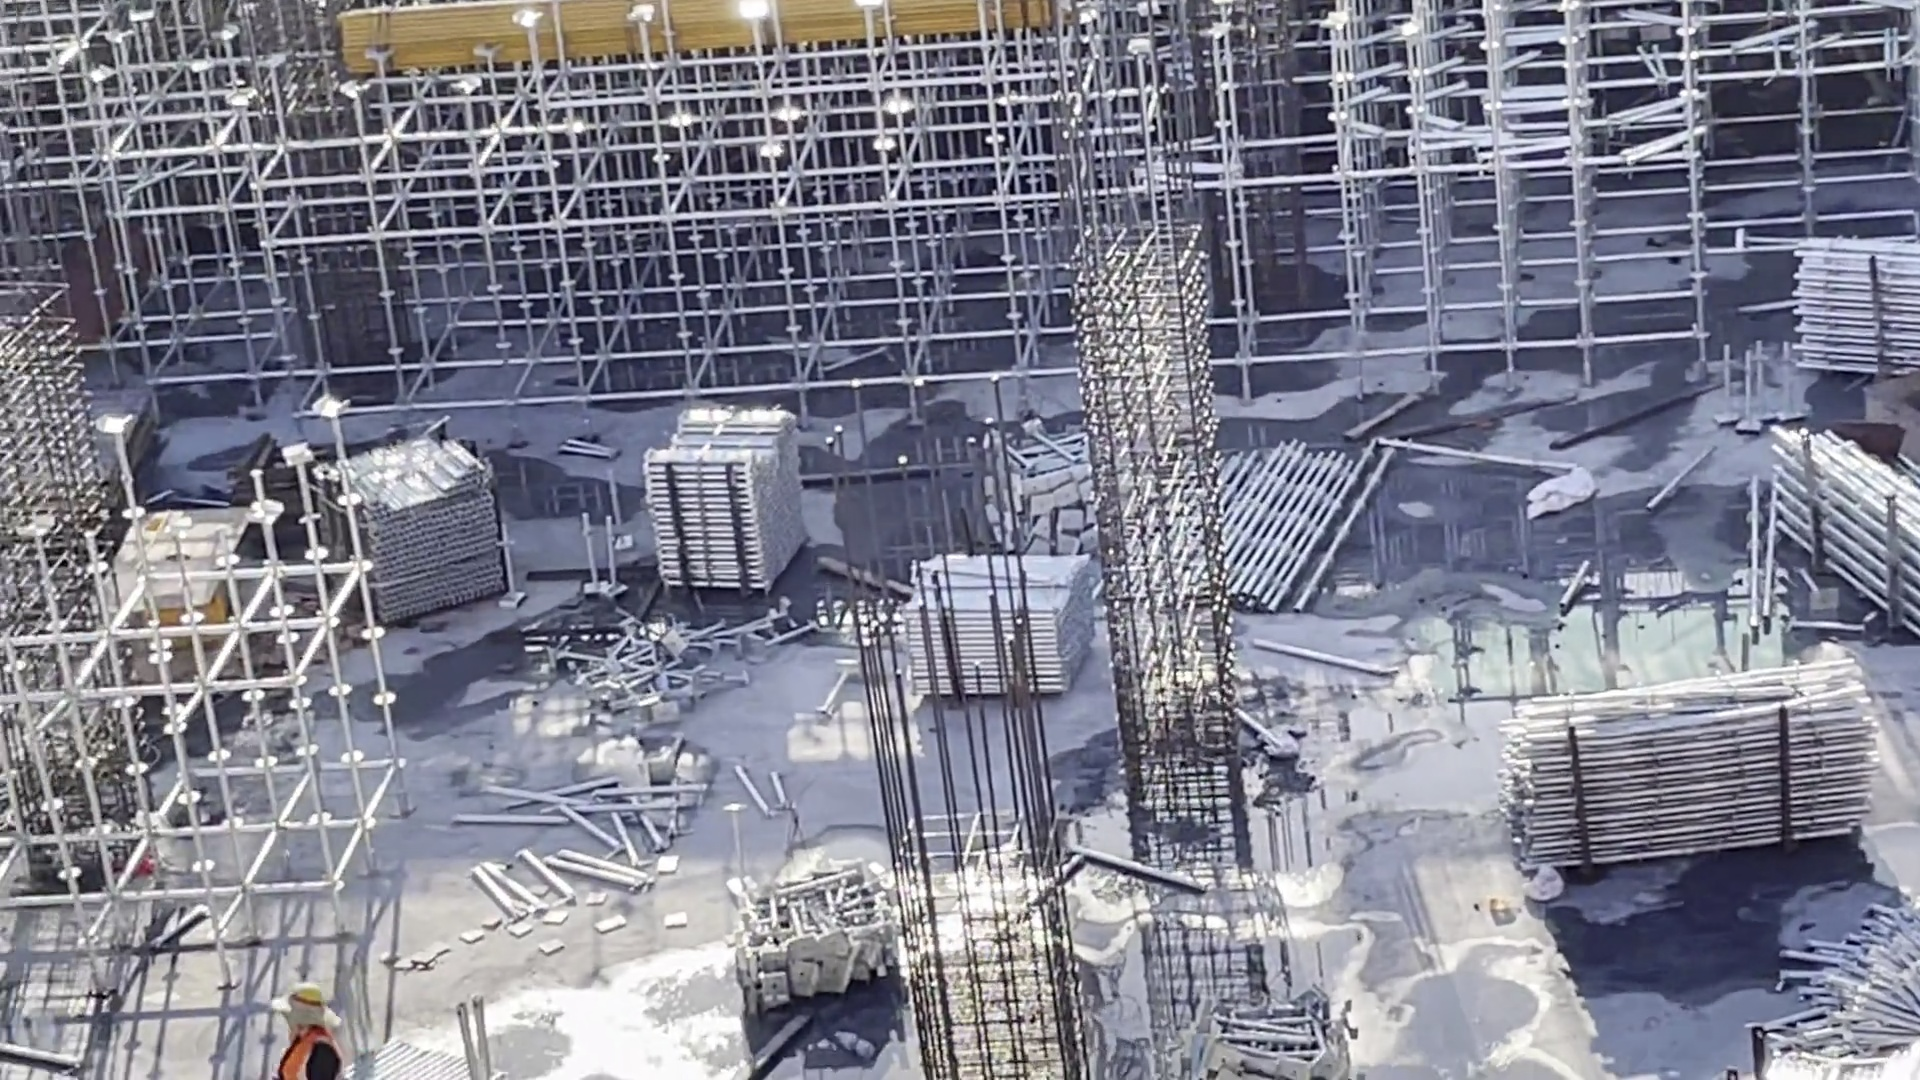helmet: (279, 974, 353, 1014)
person: (256, 966, 342, 1080)
scaffold: (1489, 674, 1868, 849), (1758, 401, 1920, 644), (633, 401, 806, 556), (333, 457, 503, 587), (909, 549, 1049, 699), (1786, 256, 1920, 371)
vest: (278, 1031, 343, 1080)
